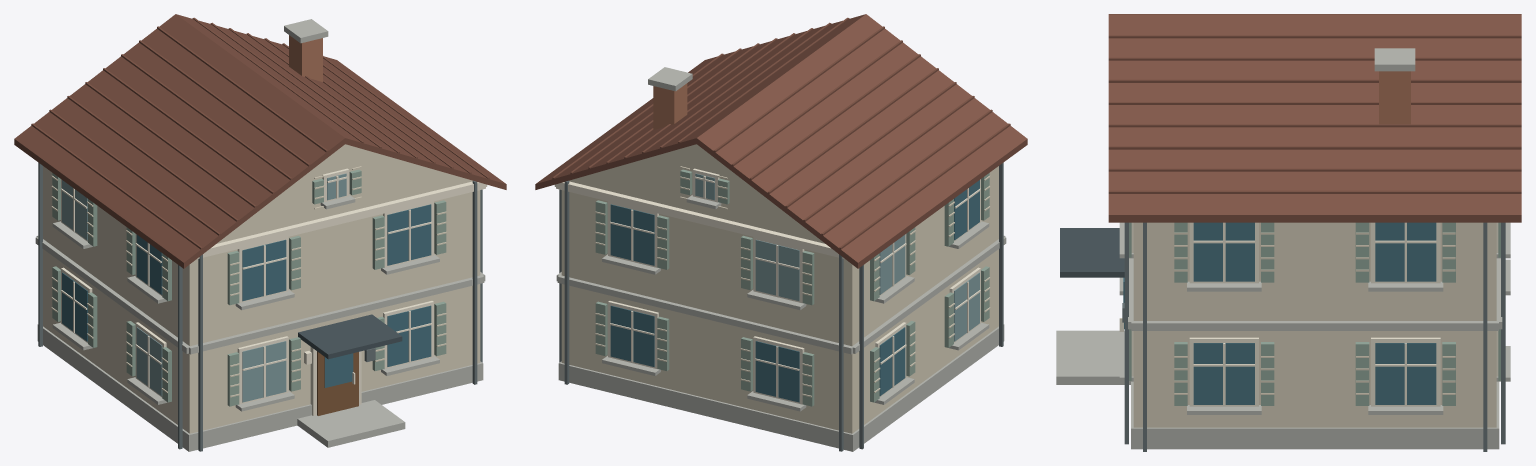
File: DS_House_Cottage.glb
3 renders of one model, left to right at view 1: azimuth 30°, elevation 25°; view 2: azimuth 150°, elevation 25°; view 3: azimuth 270°, elevation 25°, orthographic. The views are drawn at different scales.
Visible parts, largest first — view 1: DS_House_Cottage_LOD0; view 2: DS_House_Cottage_LOD0; view 3: DS_House_Cottage_LOD0.
Part boxes in pixels (x1=…): DS_House_Cottage_LOD0: x1=14, y1=14, x2=506, y2=451; DS_House_Cottage_LOD0: x1=535, y1=14, x2=1027, y2=451; DS_House_Cottage_LOD0: x1=1056, y1=14, x2=1521, y2=451.
Bounding box in the file's own units: 10 × 8.56 × 10.25.
